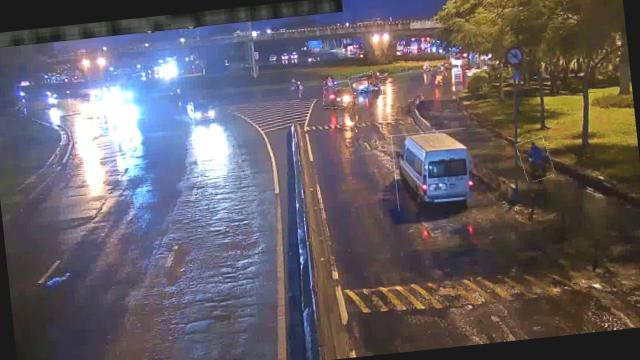Bike: (517, 136, 553, 182)
Bus: (391, 127, 474, 210)
Car: (322, 86, 353, 109), (348, 72, 376, 94)
